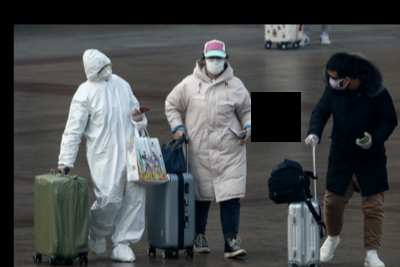with_mask: (205, 55, 225, 75), (328, 72, 345, 92), (97, 63, 113, 80)
